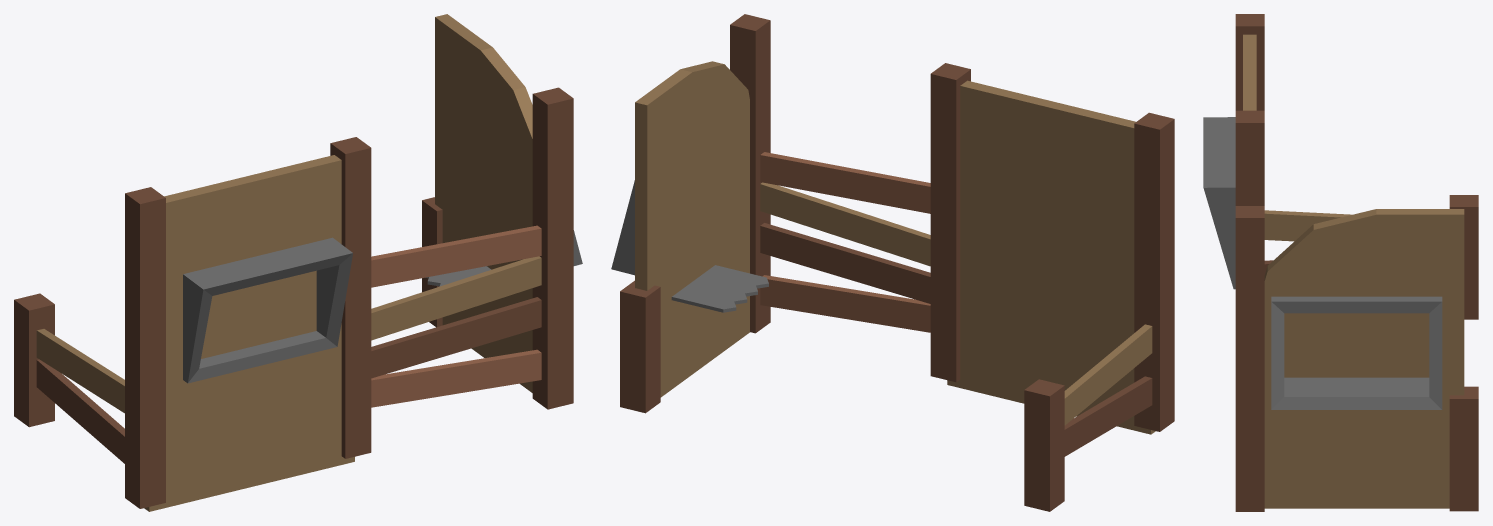
The model's file is Wood_Gatherer_Seperated.fbx.
3 renders of one model, left to right at view 1: azimuth 30°, elevation 25°; view 2: azimuth 150°, elevation 25°; view 3: azimuth 270°, elevation 25°, orthographic. The views are drawn at different scales.
Parts seen in each view (by area): view 1: Cube.041; view 2: Cube.041, Cube.015; view 3: Cube.041.
Part boxes in pixels (x1,y1,x2,y2): Cube.041: (14, 14, 582, 511); Cube.041: (611, 14, 1174, 511); Cube.015: (671, 265, 768, 312); Cube.041: (1203, 14, 1478, 511).
Bounding box in the file's own units: 317 × 206 × 170.
